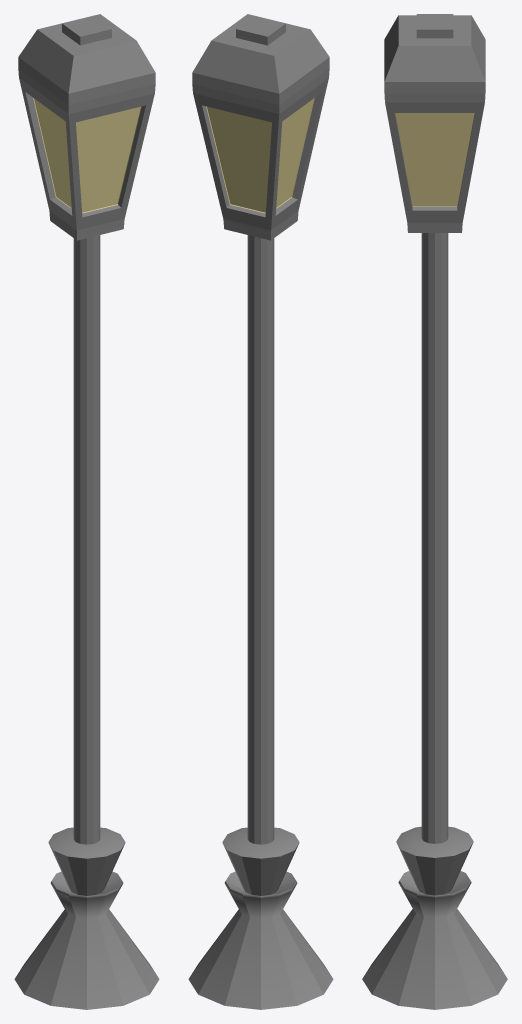
Rendered from sokakLambasi.fbx.
3 renders of one model, left to right at view 1: azimuth 30°, elevation 25°; view 2: azimuth 150°, elevation 25°; view 3: azimuth 270°, elevation 25°, orthographic.
Visible parts, largest first — view 1: sokakLambasi1_pCube1; view 2: sokakLambasi1_pCube1; view 3: sokakLambasi1_pCube1.
Part boxes in pixels (bbox=[...]): sokakLambasi1_pCube1: bbox=[14, 14, 159, 1009]; sokakLambasi1_pCube1: bbox=[188, 14, 333, 1009]; sokakLambasi1_pCube1: bbox=[362, 14, 507, 1009].
Bounding box in the file's own units: 3.07 × 22.24 × 3.07.
